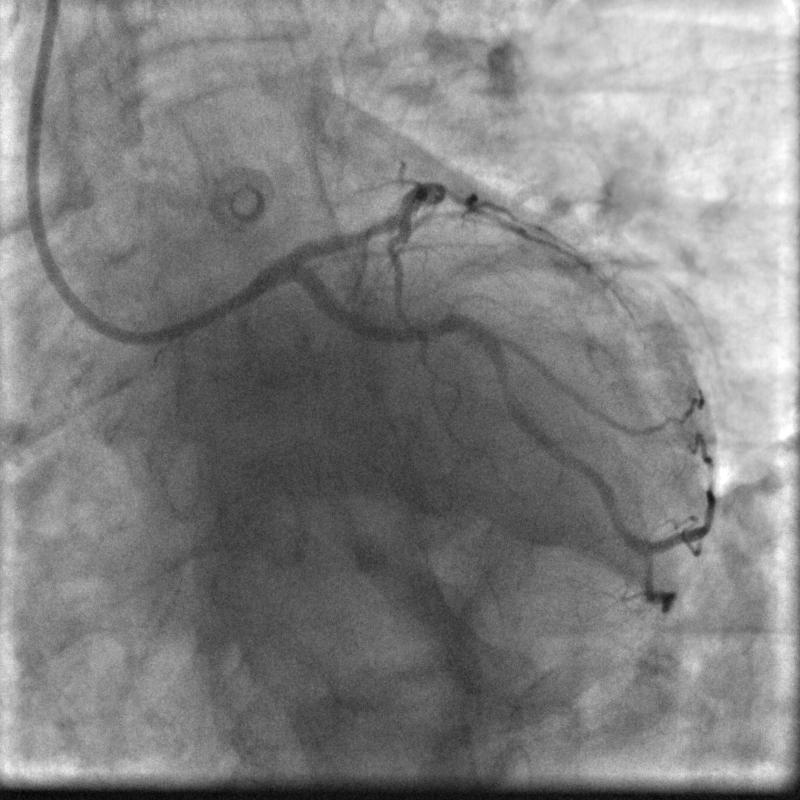Stenosis: (494, 369, 512, 397)
